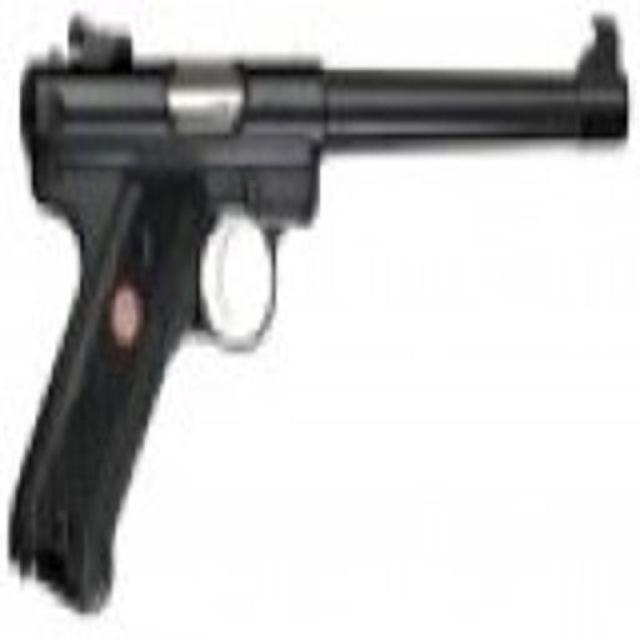pistol: (7, 15, 631, 602)
